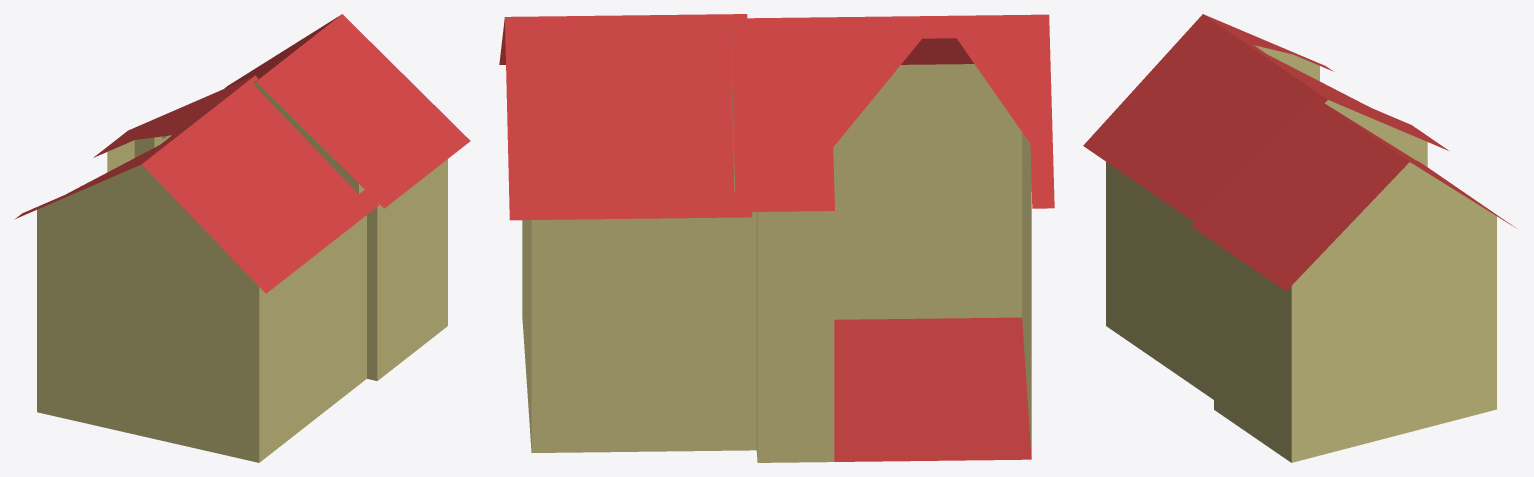
3 renders of one model, left to right at view 1: azimuth 30°, elevation 25°; view 2: azimuth 150°, elevation 25°; view 3: azimuth 270°, elevation 25°, orthographic. The views are drawn at different scales.
Bounding box in the file's own units: 22.49 × 19.58 × 13.77.
